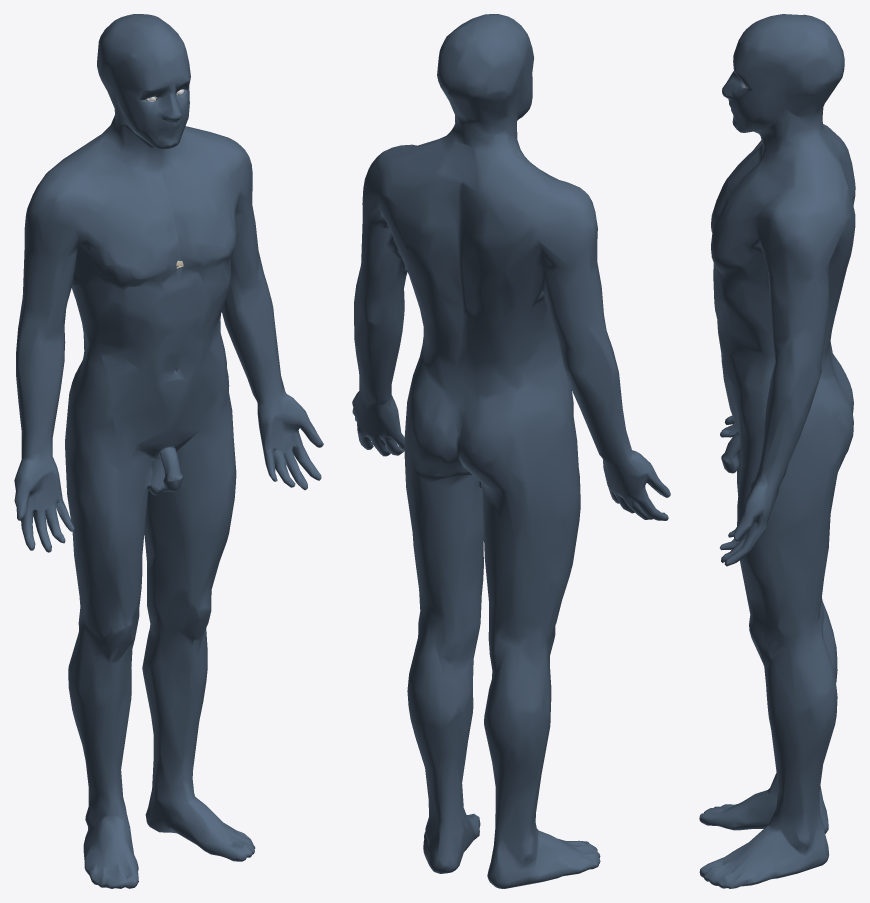
The model's file is body.glb.
3 views of the same model, side by side, from view 1: azimuth 30°, elevation 25°; view 2: azimuth 150°, elevation 25°; view 3: azimuth 270°, elevation 25° (orthographic). The views are drawn at different scales.
Visible parts, largest first — view 1: Skin; view 2: Skin; view 3: Skin.
Boxes of the visible parts, x1=… form: Skin: x1=14, y1=14, x2=323, y2=888; Skin: x1=352, y1=14, x2=670, y2=888; Skin: x1=699, y1=14, x2=855, y2=888.
Size of the model in its own units: 0.7753 by 2 by 0.3396.
